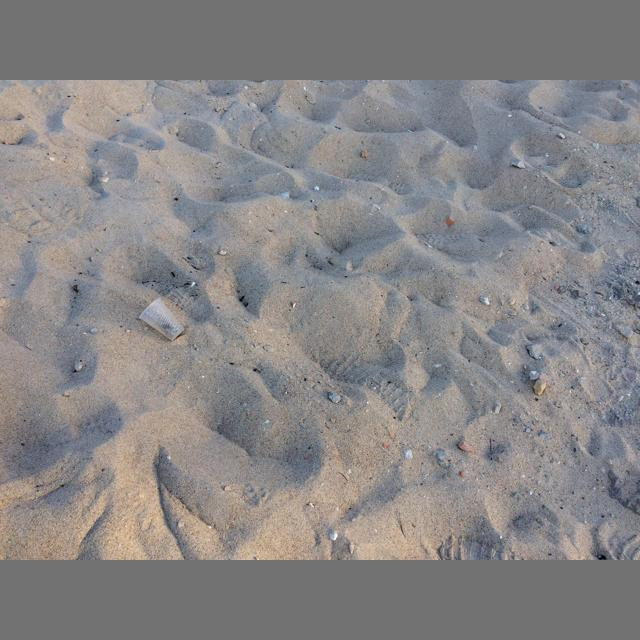litter: (139, 297, 185, 341), (191, 281, 196, 287)
